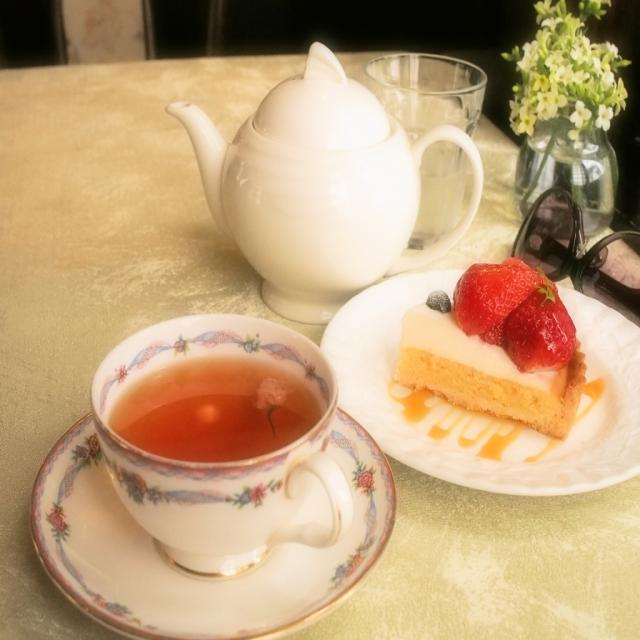Tea: (104, 355, 321, 463)
